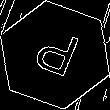P_S: (27, 25, 83, 85)
